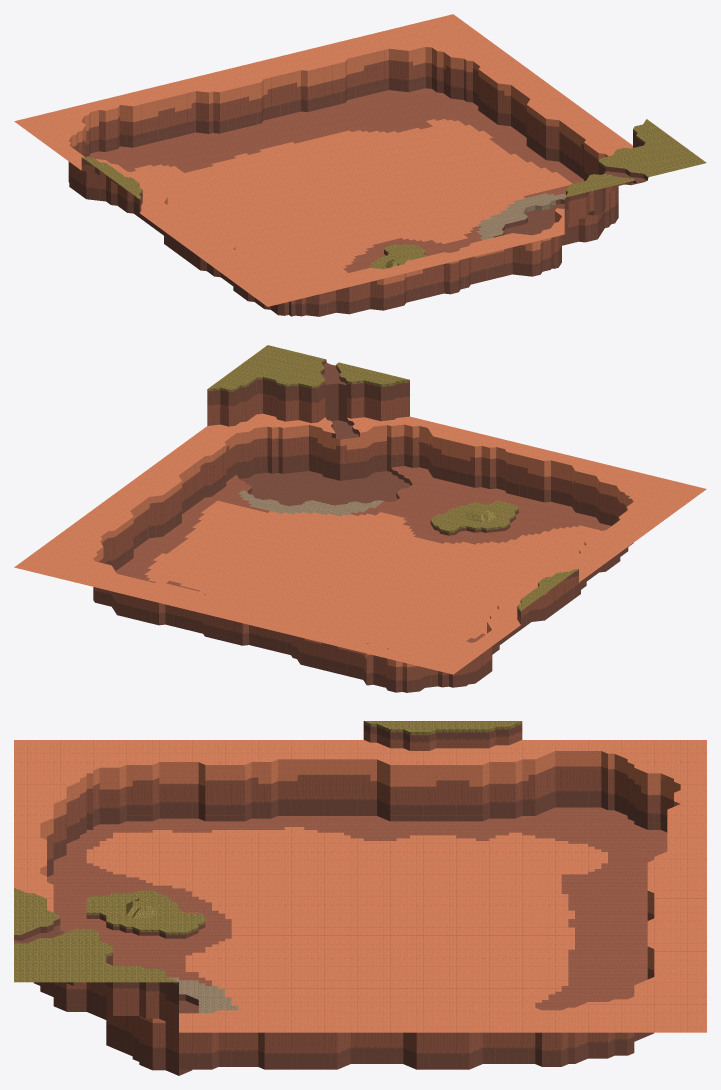
The model's file is map.gltf.
3 renders of one model, top to bottom at view 1: azimuth 30°, elevation 25°; view 2: azimuth 150°, elevation 25°; view 3: azimuth 270°, elevation 25°, orthographic. The views are drawn at different scales.
Parts seen in each view (by area): view 1: Grid; view 2: Grid; view 3: Grid.
Boxes of the visible parts, left/top/right/bottom form: Grid: left=14, top=14, right=706, bottom=316; Grid: left=14, top=345, right=706, bottom=692; Grid: left=14, top=721, right=706, bottom=1075.
Size of the model in its own units: 100 by 18 by 100.
Materials: 1 (1 with a texture image).
